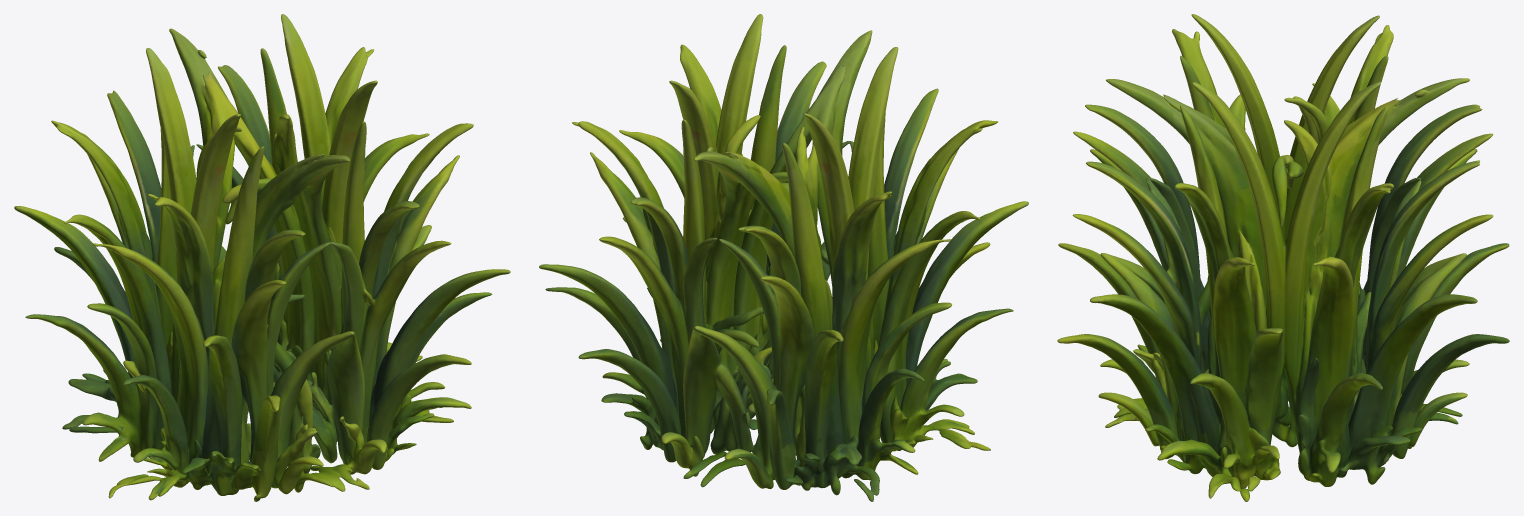
The model's file is grass plain.glb.
3 views of the same model, side by side, from view 1: azimuth 30°, elevation 25°; view 2: azimuth 150°, elevation 25°; view 3: azimuth 270°, elevation 25° (orthographic). The views are drawn at different scales.
Visible parts, largest first — view 1: tripo_node_294bd8a4-6259-47d4-8bdf-ff9f1223ecf7; view 2: tripo_node_294bd8a4-6259-47d4-8bdf-ff9f1223ecf7; view 3: tripo_node_294bd8a4-6259-47d4-8bdf-ff9f1223ecf7.
Part boxes in pixels (x1,y1,x2,y2): tripo_node_294bd8a4-6259-47d4-8bdf-ff9f1223ecf7: (14,14,510,501); tripo_node_294bd8a4-6259-47d4-8bdf-ff9f1223ecf7: (539,14,1028,501); tripo_node_294bd8a4-6259-47d4-8bdf-ff9f1223ecf7: (1057,14,1509,501).
Bounding box in the file's own units: 0.936 × 0.8949 × 0.9426.
Materials: 1 (1 with a texture image).
